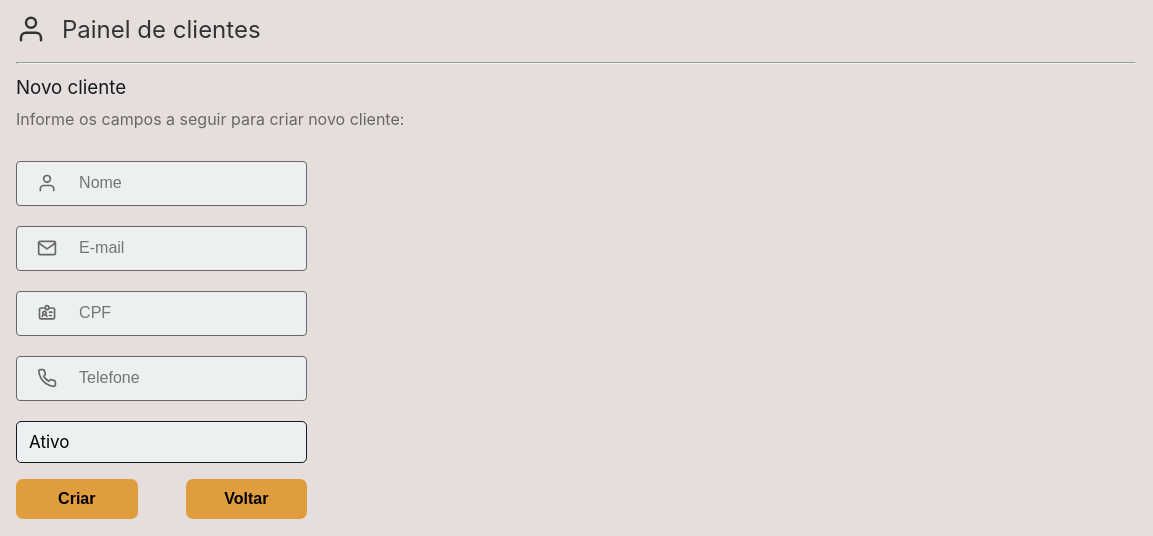
Scenario: Home › navigates back to home page when "Voltar" button is clicked
The width and height of the screenshot is (1153, 536).
Click the button "Voltar": (246, 499) [186,479,307,519]
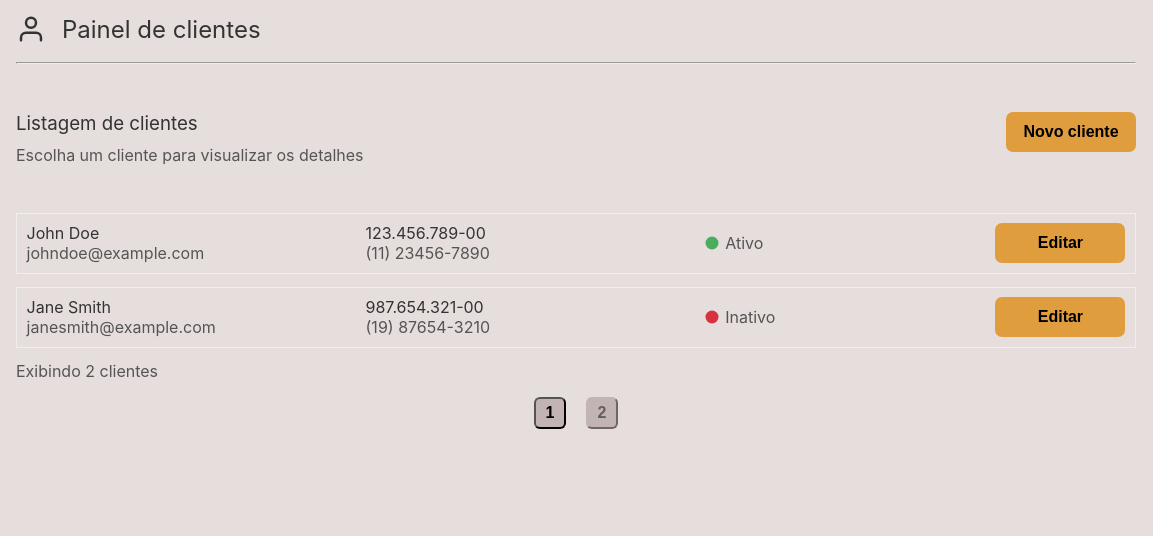
Now the heading "Listagem de clientes" is shown, box [16,112,198,135]
